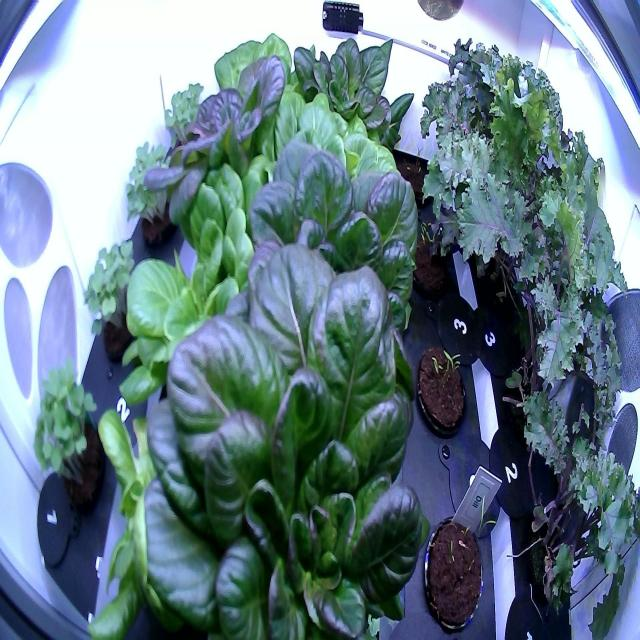Ready: (125, 226, 429, 640), (238, 86, 418, 324), (142, 42, 293, 286), (276, 24, 420, 212), (212, 25, 320, 147)
germination: (416, 481, 503, 636), (410, 326, 469, 454), (400, 211, 460, 307), (390, 135, 439, 202)
young: (110, 157, 282, 436), (231, 126, 424, 359)
